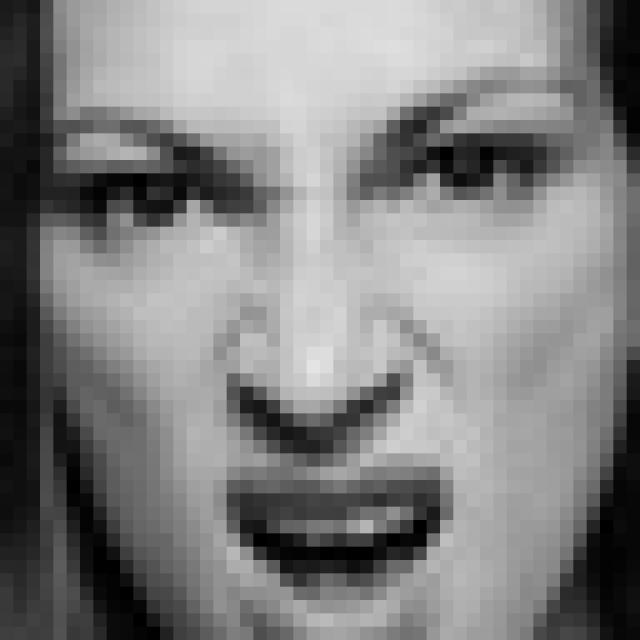disgust: (46, 71, 576, 640)
